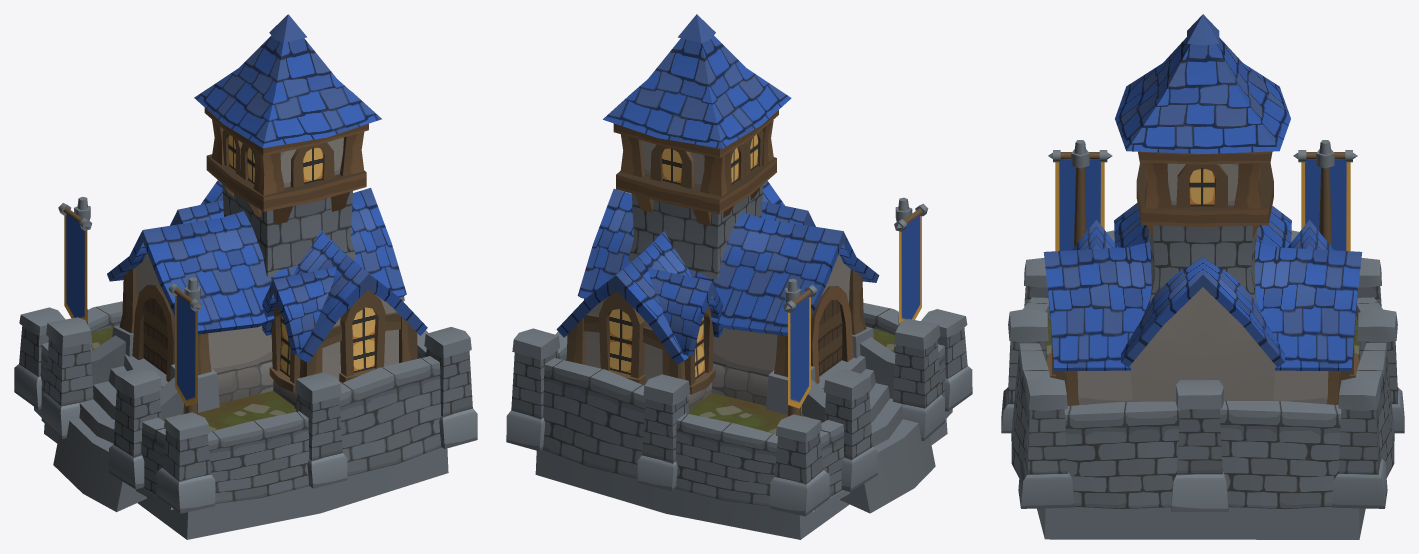
Rendered from Keep.FBX.
The picture shows the model from 3 angles, left to right: view 1: azimuth 30°, elevation 25°; view 2: azimuth 150°, elevation 25°; view 3: azimuth 270°, elevation 25°; orthographic projection. The views are drawn at different scales.
Visible parts, largest first — view 1: Keep; view 2: Keep; view 3: Keep.
Part boxes in pixels (<box>): Keep: <box>14,14,477,539</box>; Keep: <box>506,14,972,539</box>; Keep: <box>1001,14,1404,539</box>.
Size of the model in its own units: 829 by 1050 by 802.
